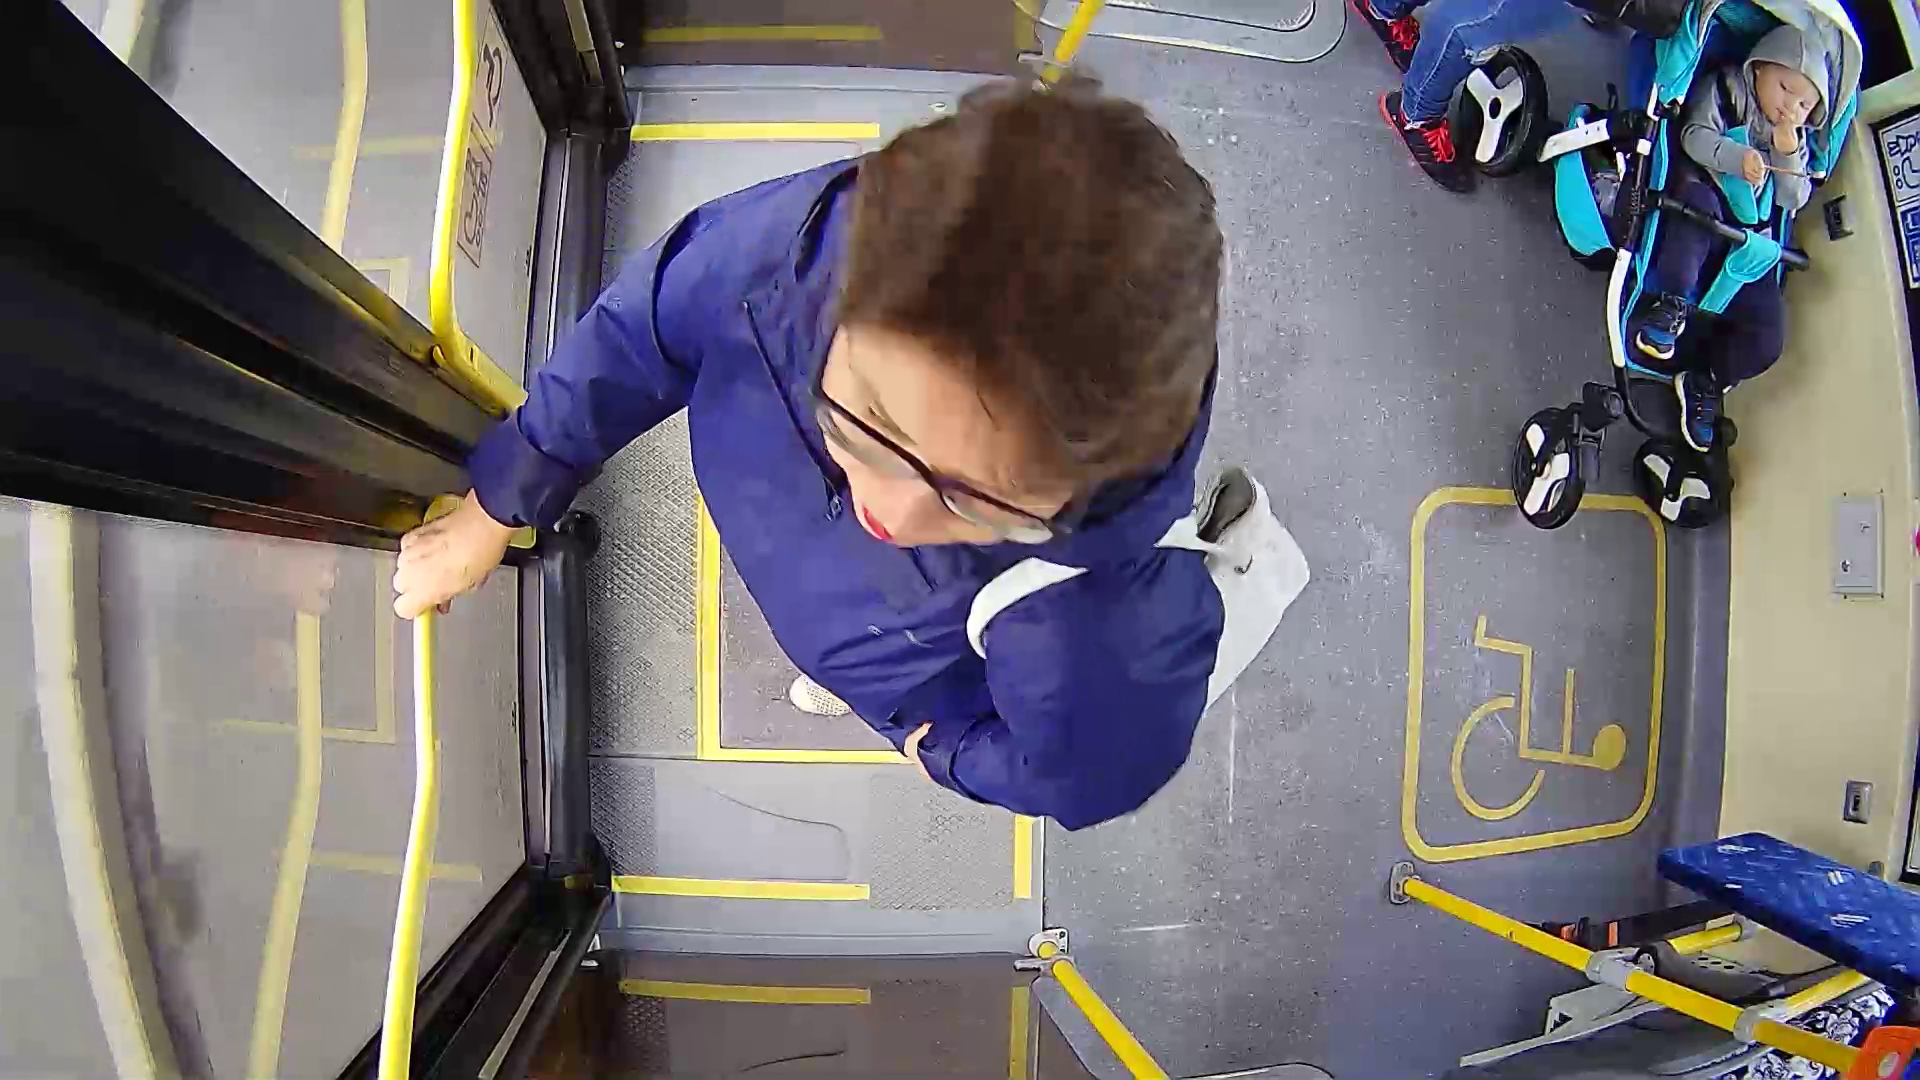person: (497, 90, 1278, 795)
